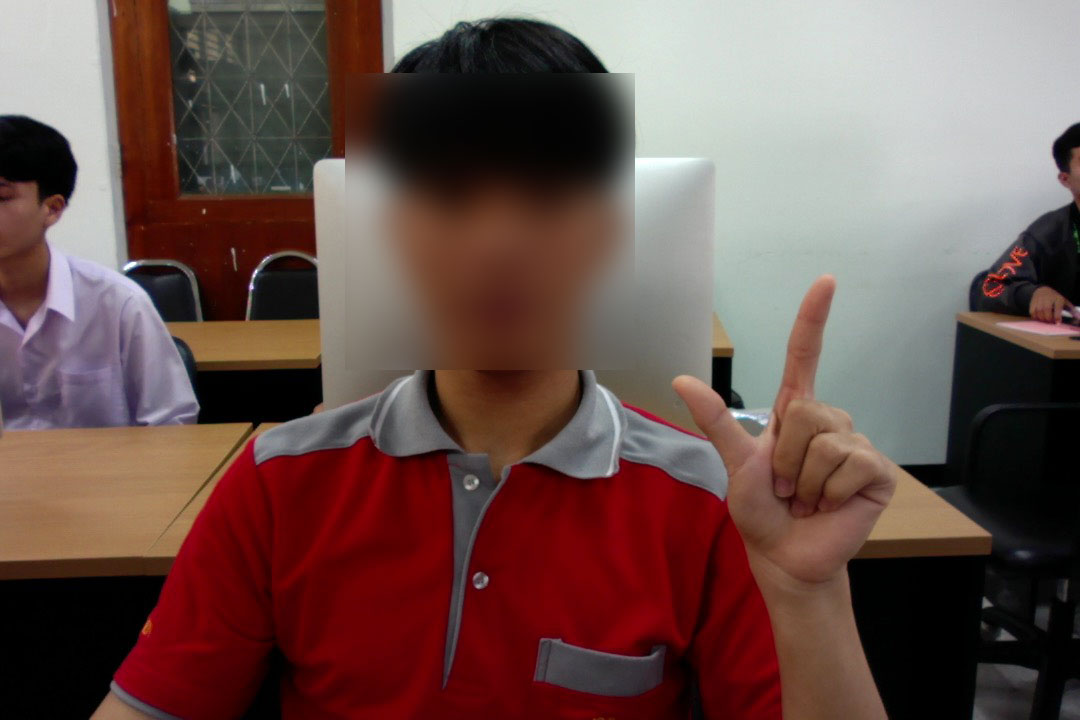lor: (661, 266, 918, 606)
